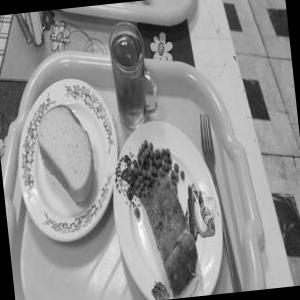bread: (22, 100, 106, 210)
casserole: (107, 144, 215, 290)
tea: (96, 14, 165, 133)
